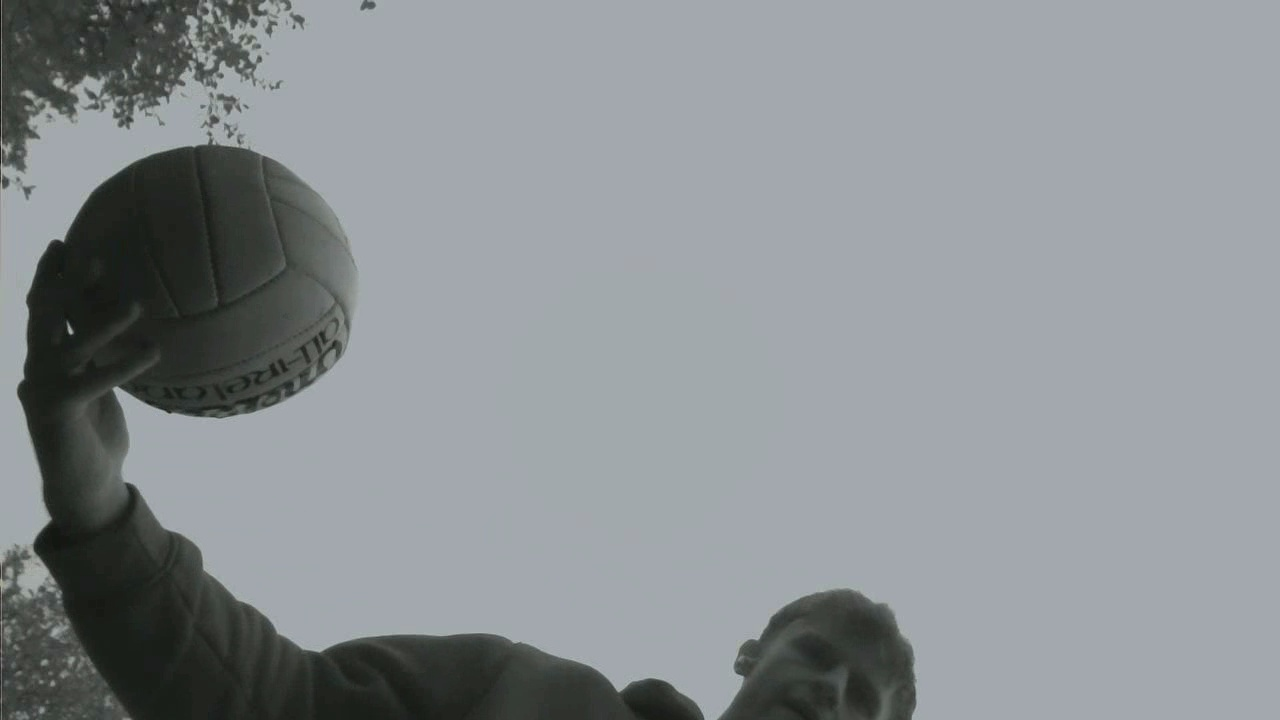Football-Spotter: (67, 146, 357, 417)
